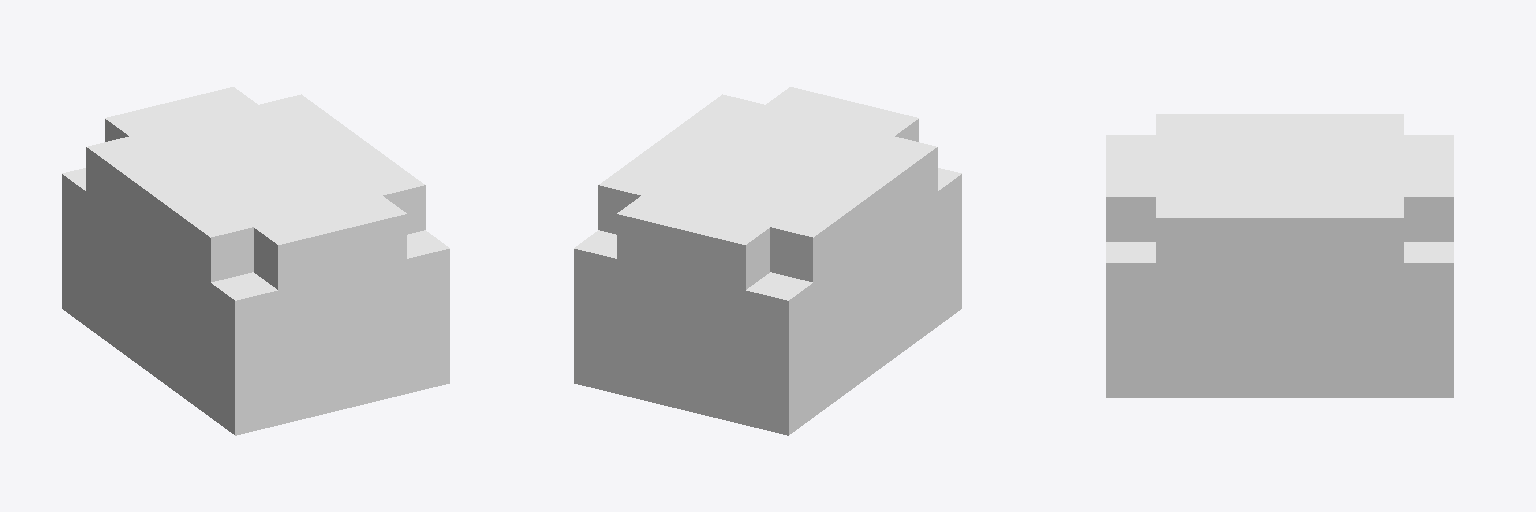
The model's file is landBush1.obj.
3 views of the same model, side by side, from view 1: azimuth 30°, elevation 25°; view 2: azimuth 150°, elevation 25°; view 3: azimuth 270°, elevation 25° (orthographic).
Visible parts, largest first — view 1: object 1; view 2: object 1; view 3: object 1.
Boxes of the visible parts, x1=… form: object 1: x1=62, y1=87, x2=449, y2=435; object 1: x1=574, y1=87, x2=961, y2=435; object 1: x1=1106, y1=114, x2=1453, y2=397.
Size of the model in its own units: 0.5 by 0.4 by 0.7.